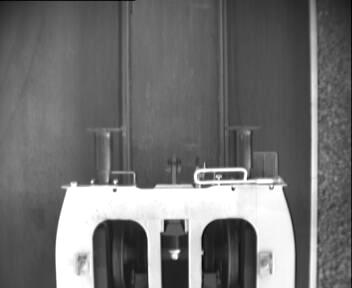twist_lock_2: (82, 211, 268, 288)
